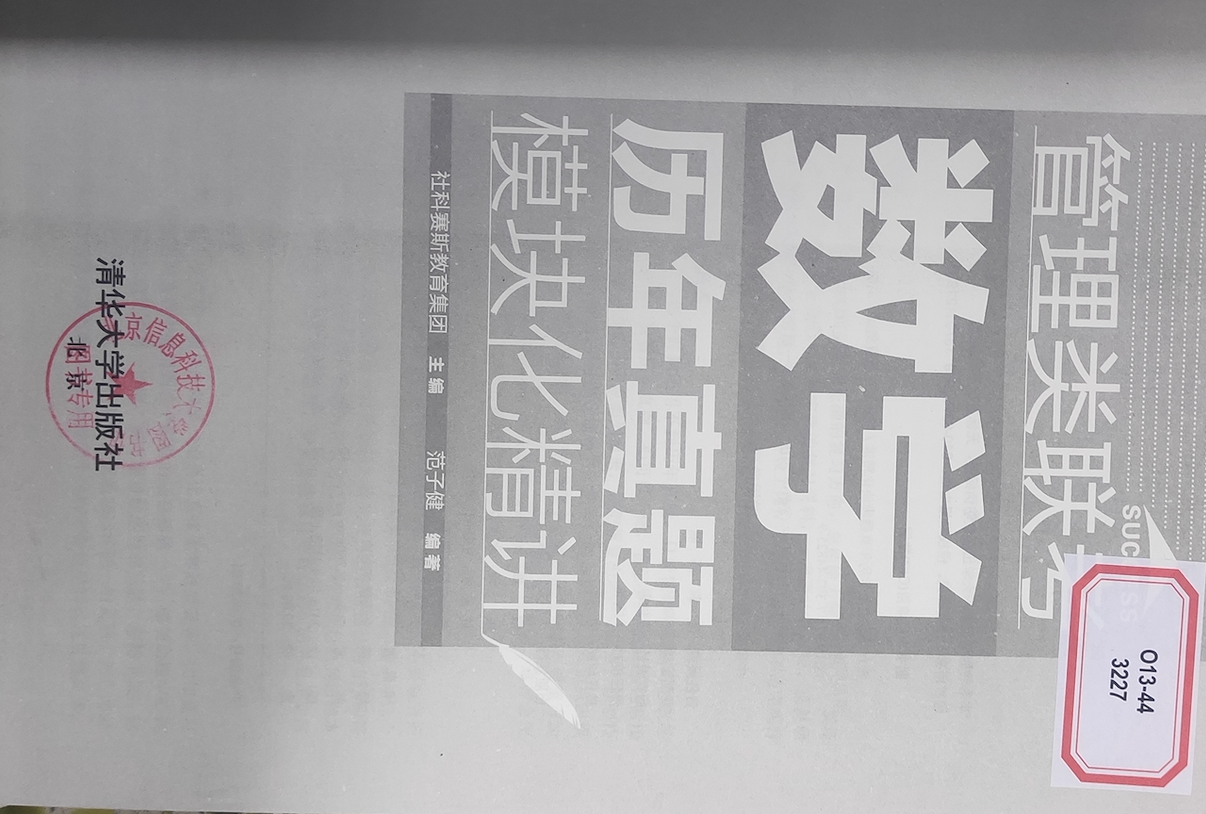Text_area: (402, 91, 1206, 665), (39, 200, 221, 535), (1076, 528, 1206, 788)
